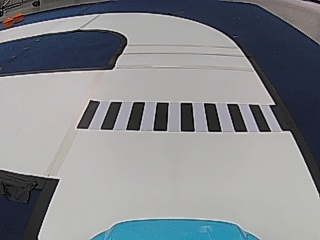CrossWalk: (73, 99, 283, 134)
